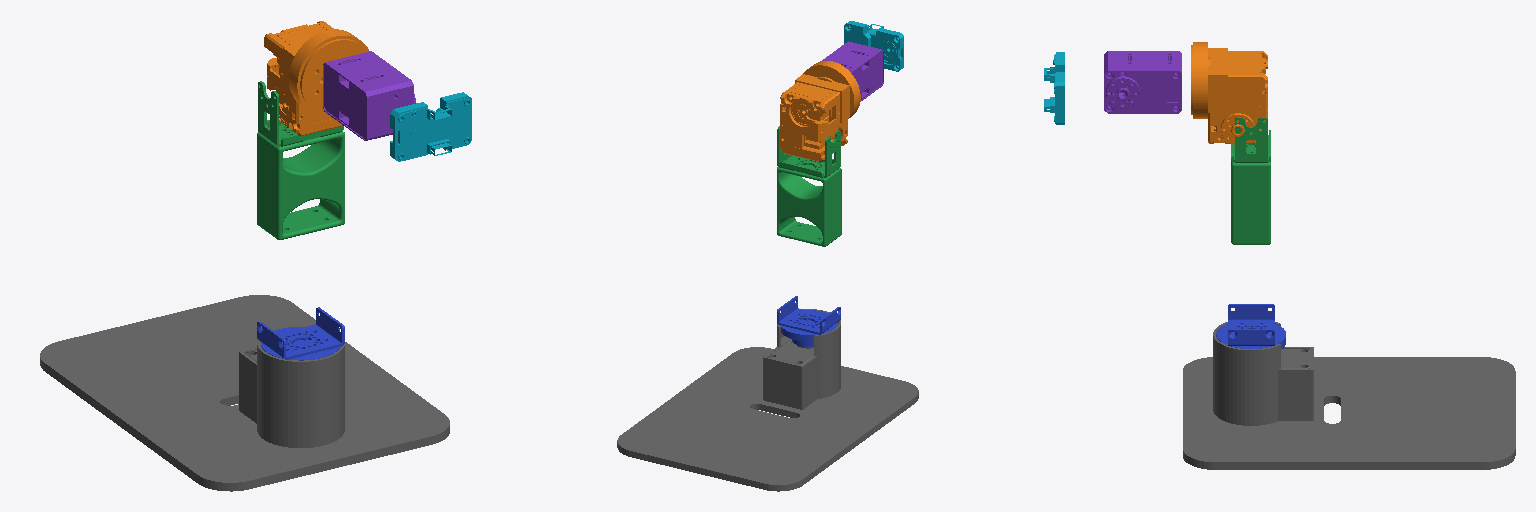
robot.urdf — robot_arm_fusion:
<?xml version="1.0"?>
<robot name="robot_arm_fusion">
  <material name="base_gray"><color rgba="0.45 0.45 0.45 1"/></material>
  <material name="yaw_blue"><color rgba="0.25 0.35 0.85 1"/></material>
  <material name="shoulder_green"><color rgba="0.2 0.65 0.35 1"/></material>
  <material name="upper_orange"><color rgba="0.95 0.55 0.15 1"/></material>
  <material name="forearm_purple"><color rgba="0.55 0.3 0.8 1"/></material>
  <material name="elbow_red"><color rgba="0.85 0.25 0.2 1"/></material>
  <material name="wrist_cyan"><color rgba="0.1 0.7 0.8 1"/></material>

  <link name="base_link">
    <inertial>
      <origin xyz="0 0 0" rpy="0 0 0"/>
      <mass value="0.1"/>
      <inertia ixx="0.0001" ixy="0" ixz="0" iyy="0.0001" iyz="0" izz="0.0001"/>
    </inertial>
    <visual>
      <origin xyz="-0.075 -0.0413 0" rpy="0 -0 0"/>
      <geometry><mesh filename="../cad/exports/fusion_meshes/arm_plate_v2_1.stl" scale="0.001 0.001 0.001"/></geometry>
      <material name="base_gray"/>
    </visual>
    <visual>
      <origin xyz="0.00015 -5e-05 0.022" rpy="-1.57772e-30 2.9525e-15 -3.14159"/>
      <geometry><mesh filename="../cad/exports/fusion_meshes/XM_H-430_idler_1_DUMMY_DC12_1.stl" scale="0.001 0.001 0.001"/></geometry>
      <material name="base_gray"/>
    </visual>
  </link>

  <link name="base_yaw_link">
    <inertial>
      <origin xyz="0 0 0" rpy="0 0 0"/>
      <mass value="0.1"/>
      <inertia ixx="0.0001" ixy="0" ixz="0" iyy="0.0001" iyz="0" izz="0.0001"/>
    </inertial>
    <visual>
      <origin xyz="-4.43239e-34 9.52863e-34 0.055" rpy="-3.14159 -1.21521e-17 -3.14159"/>
      <geometry><mesh filename="../cad/exports/fusion_meshes/arm_thrustA_1.stl" scale="0.001 0.001 0.001"/></geometry>
      <material name="yaw_blue"/>
    </visual>
    <visual>
      <origin xyz="2.56706e-16 1.09555e-16 0.0745" rpy="-3.14159 -2.04493e-15 -3.14159"/>
      <geometry><mesh filename="../cad/exports/fusion_meshes/fr12_s102_k_1.stl" scale="0.001 0.001 0.001"/></geometry>
      <material name="yaw_blue"/>
    </visual>
    <visual>
      <origin xyz="7.66984e-17 1.57737e-16 0.0955" rpy="1.5708 7.13883e-18 1.5708"/>
      <geometry><mesh filename="../cad/exports/fusion_meshes/XM_H-430_idler_2_DUMMY_DC12_1.stl" scale="0.001 0.001 0.001"/></geometry>
      <material name="yaw_blue"/>
    </visual>
  </link>

  <link name="shoulder_pitch_link">
    <inertial>
      <origin xyz="0 0 0" rpy="0 0 0"/>
      <mass value="0.1"/>
      <inertia ixx="0.0001" ixy="0" ixz="0" iyy="0.0001" iyz="0" izz="0.0001"/>
    </inertial>
    <visual>
      <origin xyz="4.36406e-17 1.76033e-16 -5e-05" rpy="1.5708 2.04397e-15 1.17928e-16"/>
      <geometry><mesh filename="../cad/exports/fusion_meshes/fr12_h101_k_1.stl" scale="0.001 0.001 0.001"/></geometry>
      <material name="shoulder_green"/>
    </visual>
    <visual>
      <origin xyz="-0.0205 0.012 0.08195" rpy="0 1.5708 -1.5708"/>
      <geometry><mesh filename="../cad/exports/fusion_meshes/arm_part1_1.stl" scale="0.001 0.001 0.001"/></geometry>
      <material name="shoulder_green"/>
    </visual>
    <visual>
      <origin xyz="-1.79023e-17 -6.00631e-16 0.10995" rpy="-1.5708 1.28606e-16 1.53078e-15"/>
      <geometry><mesh filename="../cad/exports/fusion_meshes/fr12_h101_k_2.stl" scale="0.001 0.001 0.001"/></geometry>
      <material name="shoulder_green"/>
    </visual>
  </link>

  <link name="upper_arm_link">
    <inertial>
      <origin xyz="0 0 0" rpy="0 0 0"/>
      <mass value="0.1"/>
      <inertia ixx="0.0001" ixy="0" ixz="0" iyy="0.0001" iyz="0" izz="0.0001"/>
    </inertial>
    <visual>
      <origin xyz="0.00048 -0.008 0.00625" rpy="1.5708 1.20278e-16 1.65146e-15"/>
      <geometry><mesh filename="../cad/exports/fusion_meshes/2XC-430_1_DC14_A01_REF_1.stl" scale="0.001 0.001 0.001"/></geometry>
      <material name="upper_orange"/>
    </visual>
    <visual>
      <origin xyz="0.016 -0.008 -0.00575" rpy="0 1.5708 -1.5708"/>
      <geometry><mesh filename="../cad/exports/fusion_meshes/2XC-430_1_DC11_A01_HORN_REF_ASM_1_DC11_A01_HORN_REF_1.stl" scale="0.001 0.001 0.001"/></geometry>
      <material name="upper_orange"/>
    </visual>
    <visual>
      <origin xyz="0.00048 -0.02352 0.01825" rpy="0 -1.5708 -3.14159"/>
      <geometry><mesh filename="../cad/exports/fusion_meshes/2XC-430_1_DC11_A01_HORN_REF_ASM_2_DC11_A01_HORN_REF_1.stl" scale="0.001 0.001 0.001"/></geometry>
      <material name="upper_orange"/>
    </visual>
    <visual>
      <origin xyz="0.00058 -0.026 0.01824" rpy="1.5708 1.20278e-16 1.65146e-15"/>
      <geometry><mesh filename="../cad/exports/fusion_meshes/arm_thrustC_1.stl" scale="0.001 0.001 0.001"/></geometry>
      <material name="upper_orange"/>
    </visual>
    <visual>
      <origin xyz="0.00048 -0.03652 0.01825" rpy="-1.5708 -4.91456e-16 4.01944e-15"/>
      <geometry><mesh filename="../cad/exports/fusion_meshes/arm_thrustB_1.stl" scale="0.001 0.001 0.001"/></geometry>
      <material name="upper_orange"/>
    </visual>
    <visual>
      <origin xyz="0.00048 -0.05602 0.01825" rpy="-1.5708 -4.91456e-16 4.23541e-15"/>
      <geometry><mesh filename="../cad/exports/fusion_meshes/fr12_s102_k_2.stl" scale="0.001 0.001 0.001"/></geometry>
      <material name="upper_orange"/>
    </visual>
  </link>

  <link name="forearm_link">
    <inertial>
      <origin xyz="0 0 0" rpy="0 0 0"/>
      <mass value="0.1"/>
      <inertia ixx="0.0001" ixy="0" ixz="0" iyy="0.0001" iyz="0" izz="0.0001"/>
    </inertial>
    <visual>
      <origin xyz="-0.01142 -0.00992 -0.00445" rpy="0 -1.5708 -3.14159"/>
      <geometry><mesh filename="../cad/exports/fusion_meshes/XC-430_idle_1_DC11_B01_CASE_M_DUMMY_1.stl" scale="0.001 0.001 0.001"/></geometry>
      <material name="forearm_purple"/>
    </visual>
    <visual>
      <origin xyz="-0.01142 -0.00992 -0.00445" rpy="0 -1.5708 -3.14159"/>
      <geometry><mesh filename="../cad/exports/fusion_meshes/XC-430_idle_1_DC11_B01_CASE_F_DUMMY_1.stl" scale="0.001 0.001 0.001"/></geometry>
      <material name="forearm_purple"/>
    </visual>
    <visual>
      <origin xyz="-0.01142 -0.00992 -0.00445" rpy="0 -1.5708 -3.14159"/>
      <geometry><mesh filename="../cad/exports/fusion_meshes/XC-430_idle_1_DC11_B01_CASE_B_DUMMY2_1.stl" scale="0.001 0.001 0.001"/></geometry>
      <material name="forearm_purple"/>
    </visual>
    <visual>
      <origin xyz="0.00408 -0.00992 -0.00445" rpy="4.92709e-16 7.77156e-16 -1.5708"/>
      <geometry><mesh filename="../cad/exports/fusion_meshes/XC-430_idle_1_M_DC11_A01_HORN_ASM_1_M_DC11_A01_HORN_1.stl" scale="0.001 0.001 0.001"/></geometry>
      <material name="forearm_purple"/>
    </visual>
    <visual>
      <origin xyz="-0.03192 -0.03792 -0.01645" rpy="1.5708 -3.70721e-16 5.39809e-15"/>
      <geometry><mesh filename="../cad/exports/fusion_meshes/arm_hand_v2_1.stl" scale="0.001 0.001 0.001"/></geometry>
      <material name="forearm_purple"/>
    </visual>
    <visual>
      <origin xyz="-0.01142 -0.00992 -0.00445" rpy="-8.18789e-16 4.93185e-16 -3.14159"/>
      <geometry><mesh filename="../cad/exports/fusion_meshes/fr12_h101_k_3.stl" scale="0.001 0.001 0.001"/></geometry>
      <material name="forearm_purple"/>
    </visual>
  </link>

  <link name="elbow_roll_link">
    <inertial>
      <origin xyz="0 0 0" rpy="0 0 0"/>
      <mass value="0.1"/>
      <inertia ixx="0.0001" ixy="0" ixz="0" iyy="0.0001" iyz="0" izz="0.0001"/>
    </inertial>
  </link>

  <link name="wrist_pitch_link">
    <inertial>
      <origin xyz="0 0 0" rpy="0 0 0"/>
      <mass value="0.1"/>
      <inertia ixx="0.0001" ixy="0" ixz="0" iyy="0.0001" iyz="0" izz="0.0001"/>
    </inertial>
    <visual>
      <origin xyz="-0.00732 -0.00202 -0.00855" rpy="0 -1.5708 1.5708"/>
      <geometry><mesh filename="../cad/exports/fusion_meshes/XC-430_idle_2_DC11_B01_CASE_M_DUMMY_1.stl" scale="0.001 0.001 0.001"/></geometry>
      <material name="wrist_cyan"/>
    </visual>
    <visual>
      <origin xyz="-0.00732 -0.00202 -0.00855" rpy="0 -1.5708 1.5708"/>
      <geometry><mesh filename="../cad/exports/fusion_meshes/XC-430_idle_2_DC11_B01_CASE_F_DUMMY_1.stl" scale="0.001 0.001 0.001"/></geometry>
      <material name="wrist_cyan"/>
    </visual>
    <visual>
      <origin xyz="-0.00732 -0.00202 -0.00855" rpy="0 -1.5708 1.5708"/>
      <geometry><mesh filename="../cad/exports/fusion_meshes/XC-430_idle_2_DC11_B01_CASE_B_DUMMY2_1.stl" scale="0.001 0.001 0.001"/></geometry>
      <material name="wrist_cyan"/>
    </visual>
    <visual>
      <origin xyz="-0.00732 -0.01752 -0.00855" rpy="-3.33067e-16 -1.44018e-15 -3.14159"/>
      <geometry><mesh filename="../cad/exports/fusion_meshes/XC-430_idle_2_M_DC11_A01_HORN_ASM_1_M_DC11_A01_HORN_1.stl" scale="0.001 0.001 0.001"/></geometry>
      <material name="wrist_cyan"/>
    </visual>
  </link>

  <joint name="base_yaw_joint" type="revolute">
    <parent link="base_link"/>
    <child link="base_yaw_link"/>
    <origin xyz="0 0 0" rpy="0 0 0"/>
    <axis xyz="0 0 1"/>
    <limit lower="-3.14159" upper="3.14159" effort="2.0" velocity="1.0"/>
  </joint>

  <joint name="shoulder_pitch_joint" type="revolute">
    <parent link="base_yaw_link"/>
    <child link="shoulder_pitch_link"/>
    <origin xyz="0 0 0.0955" rpy="0 0 0"/>
    <axis xyz="1 0 0"/>
    <limit lower="-1.5708" upper="1.5708" effort="2.0" velocity="1.0"/>
  </joint>

  <joint name="elbow_pitch_joint" type="revolute">
    <parent link="shoulder_pitch_link"/>
    <child link="upper_arm_link"/>
    <origin xyz="0 0 0.10995" rpy="0 0 0"/>
    <axis xyz="1 0 0"/>
    <limit lower="-1.5708" upper="1.5708" effort="2.0" velocity="1.0"/>
  </joint>

  <joint name="upper_arm_roll_joint" type="revolute">
    <parent link="upper_arm_link"/>
    <child link="forearm_link"/>
    <origin xyz="0.0119 -0.0671 0.0227" rpy="0 0 0"/>
    <axis xyz="0 0 -1"/>
    <limit lower="-1.5708" upper="1.5708" effort="2.0" velocity="1.0"/>
  </joint>

  <joint name="elbow_roll_joint" type="revolute">
    <parent link="forearm_link"/>
    <child link="elbow_roll_link"/>
    <origin xyz="-0.0078 -0.0004 0" rpy="0 0 0"/>
    <axis xyz="-1 0 0"/>
    <limit lower="-1.5708" upper="1.5708" effort="2.0" velocity="1.0"/>
  </joint>

  <joint name="wrist_pitch_joint" type="revolute">
    <parent link="elbow_roll_link"/>
    <child link="wrist_pitch_link"/>
    <origin xyz="0.0037 -0.0595 0.0041" rpy="0 0 0"/>
    <axis xyz="0 1 0"/>
    <limit lower="-1.5708" upper="1.5708" effort="2.0" velocity="1.0"/>
  </joint>

</robot>

--- Facts derived from the render (not from the file) ---
Views: 3 orthographic renders of the robot side by side, from view 1: azimuth 30°, elevation 25°; view 2: azimuth 150°, elevation 25°; view 3: azimuth 270°, elevation 25°.
Robot: robot_arm_fusion — 7 links, 6 joints (6 revolute); root link base_link; default pose: all joints at 0.
Links seen in each view (by area): view 1: base_link, shoulder_pitch_link, upper_arm_link, forearm_link, wrist_pitch_link, base_yaw_link; view 2: base_link, upper_arm_link, shoulder_pitch_link, base_yaw_link, forearm_link, wrist_pitch_link; view 3: base_link, upper_arm_link, forearm_link, shoulder_pitch_link, base_yaw_link, wrist_pitch_link.
Link boxes in pixels (left/top/right/bottom): base_link: left=40, top=295, right=449, bottom=491; shoulder_pitch_link: left=257, top=81, right=344, bottom=239; upper_arm_link: left=264, top=21, right=368, bottom=135; forearm_link: left=323, top=51, right=415, bottom=140; wrist_pitch_link: left=390, top=92, right=471, bottom=161; base_yaw_link: left=257, top=307, right=344, bottom=360; base_link: left=617, top=309, right=918, bottom=491; upper_arm_link: left=780, top=61, right=860, bottom=161; shoulder_pitch_link: left=777, top=126, right=841, bottom=246; base_yaw_link: left=777, top=296, right=840, bottom=346; forearm_link: left=822, top=41, right=883, bottom=101; wrist_pitch_link: left=844, top=21, right=903, bottom=71; base_link: left=1183, top=322, right=1515, bottom=469; upper_arm_link: left=1191, top=42, right=1267, bottom=144; forearm_link: left=1104, top=51, right=1181, bottom=113; shoulder_pitch_link: left=1231, top=117, right=1270, bottom=244; base_yaw_link: left=1216, top=304, right=1285, bottom=348; wrist_pitch_link: left=1044, top=52, right=1064, bottom=124.
Bounding box of the posed robot: 0.15 × 0.283 × 0.2467 m (x, y, z).
14 mesh visuals loaded from 24 distinct referenced files (14 binary STL); not drawn: 10 (reference not matched to a file when rendering).
